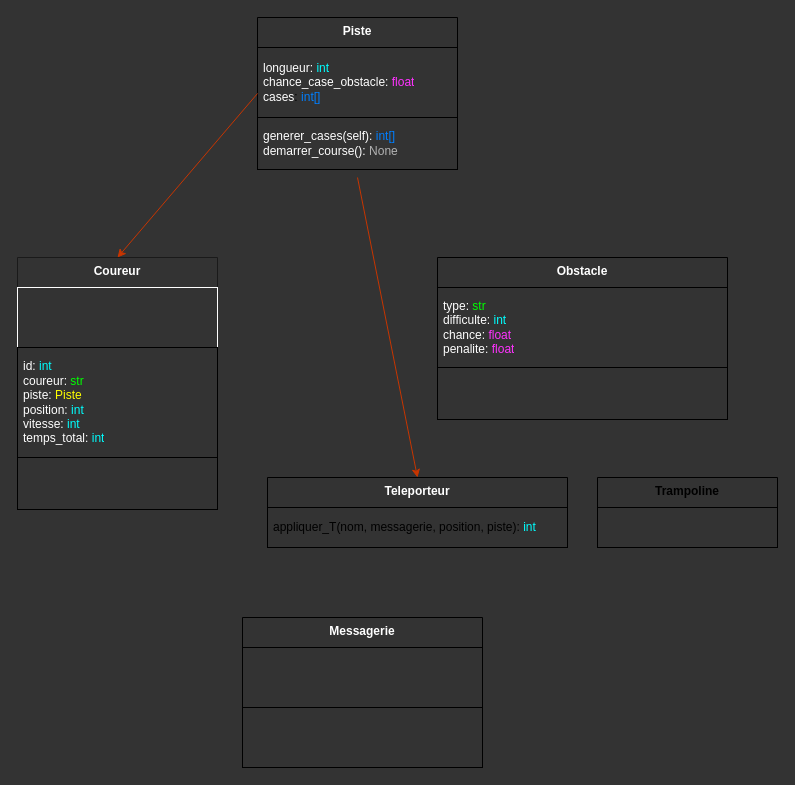
This 795x785 diagram has some shape labels left out. The centre of each missing label's shape, as x and y in pixels:
appliquer(self, coureur, messagerie, position): None: pixel 582 393
avancer(self, vitesse): int modifier_vitesse(): int: pixel 117 483
envoyer(self, message): None afficher_archive(self): None: pixel 362 737
lock: threading .Lock () messages: str[]: pixel 362 677
saut: str: pixel 687 527
VITESSE_MIN: int = 1 VITESSE_MAX: int = 3: pixel 117 317
